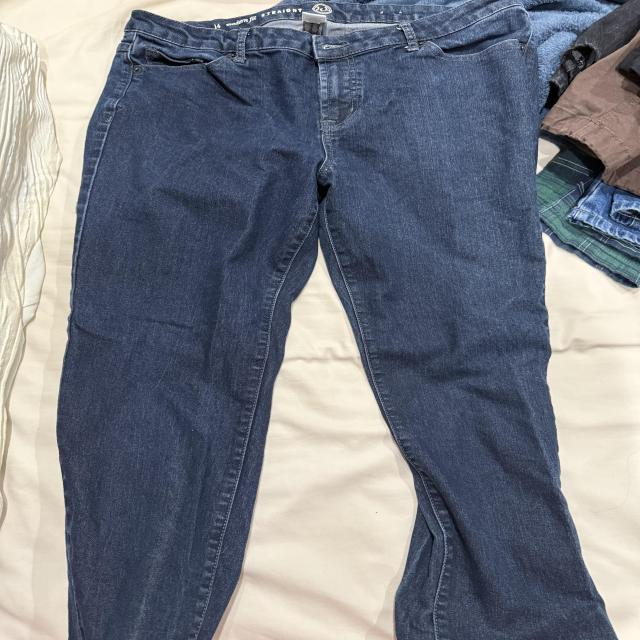back_tag: (205, 4, 343, 31)
